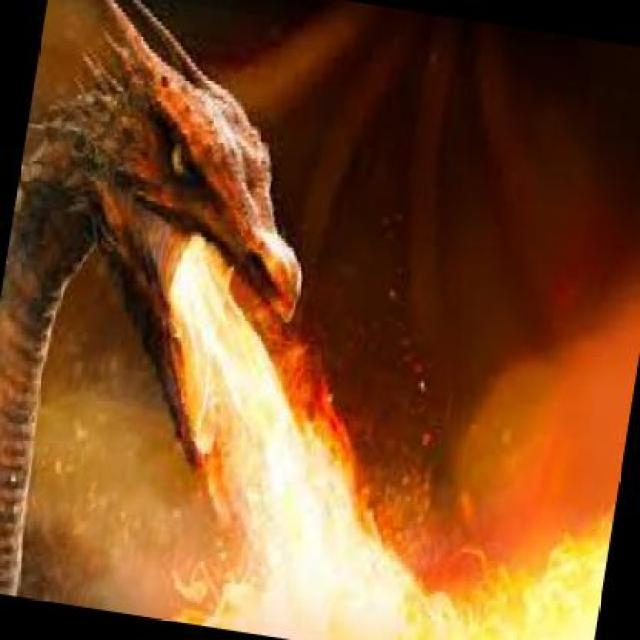Fire: (164, 231, 614, 640)
